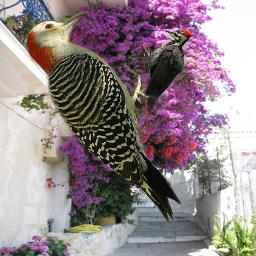Woodpecker: (21, 11, 184, 223), (139, 29, 194, 119)
